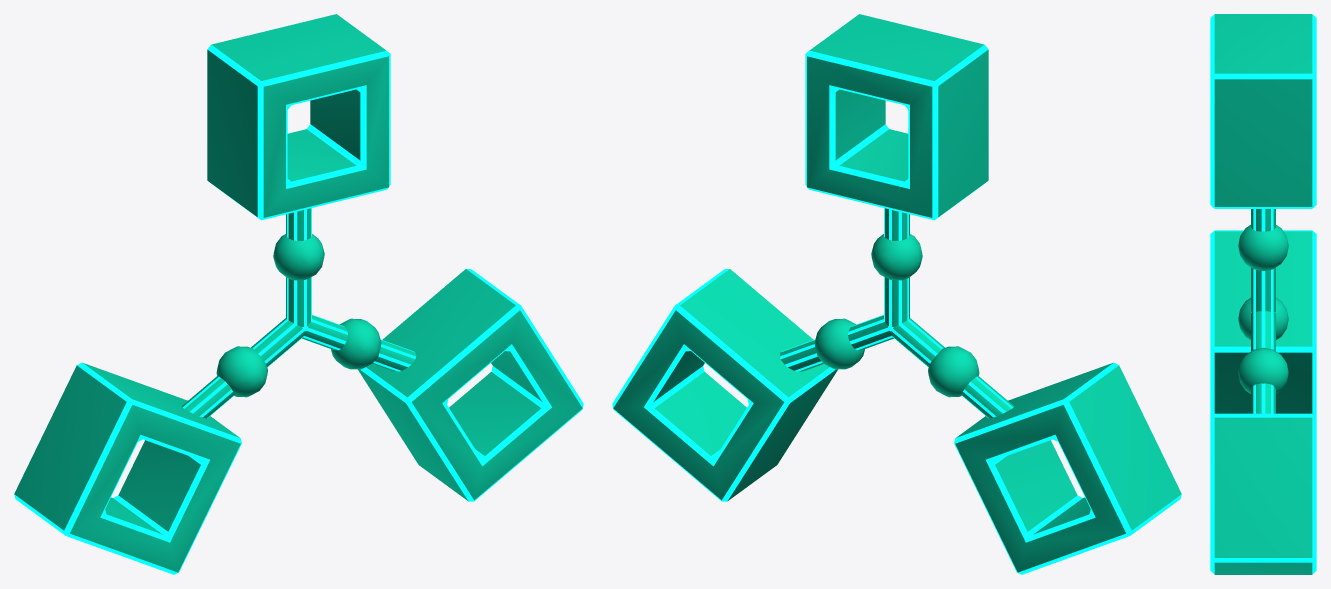
File: pn_ico_nodo.glb
3 views of the same model, side by side, from view 1: azimuth 30°, elevation 25°; view 2: azimuth 150°, elevation 25°; view 3: azimuth 270°, elevation 25° (orthographic). The views are drawn at different scales.
Visible parts, largest first — view 1: pn_ico_nodo; view 2: pn_ico_nodo; view 3: pn_ico_nodo.
Part boxes in pixels (x1,y1,x2,y2): pn_ico_nodo: [14, 14, 583, 574]; pn_ico_nodo: [612, 14, 1181, 574]; pn_ico_nodo: [1210, 14, 1316, 574].
Size of the model in its own units: 0.58 by 0.5039 by 0.1053.
